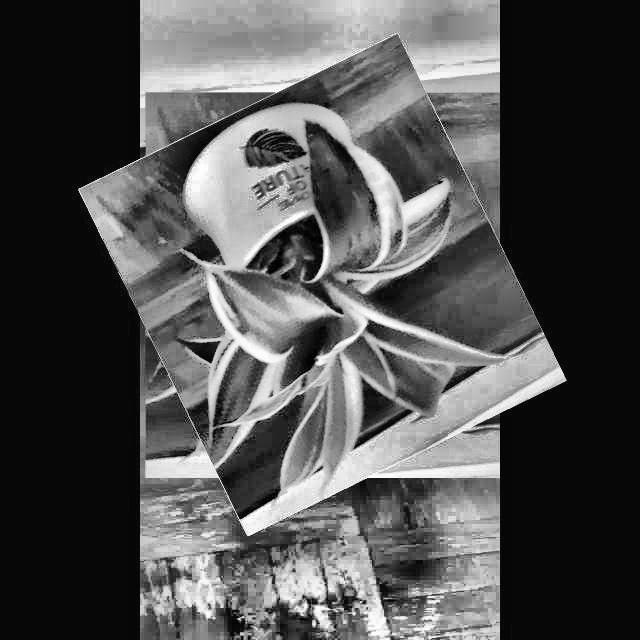plants: (111, 63, 534, 507)
